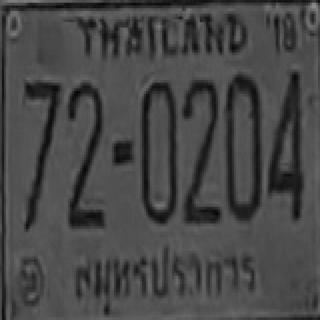N00: (224, 72, 260, 218), (140, 78, 176, 222)
N02: (181, 76, 217, 217), (67, 80, 103, 221), (67, 80, 103, 210), (181, 77, 217, 204)
N04: (266, 69, 302, 218)
N07: (22, 77, 60, 223), (22, 77, 60, 210), (22, 77, 60, 174)
P57: (67, 241, 264, 310)
